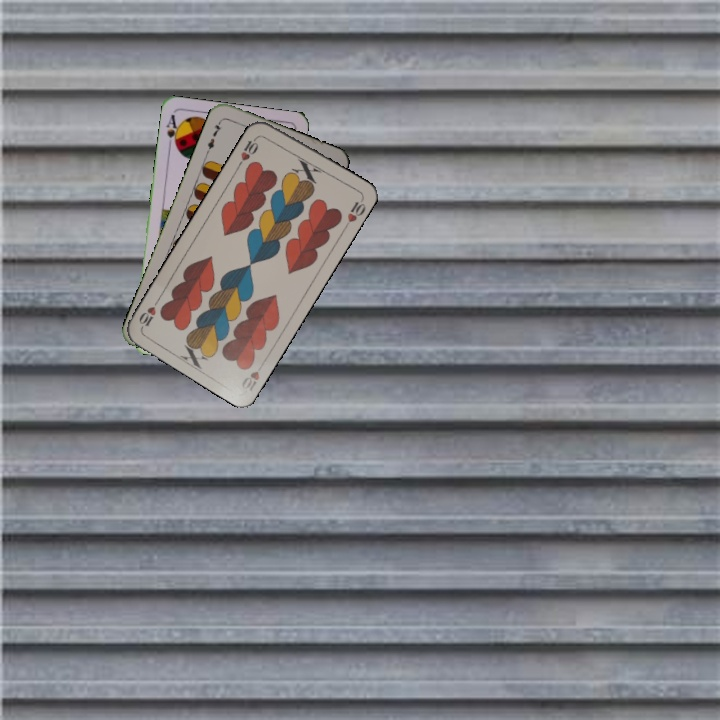E7: (203, 116, 224, 155)
H10: (234, 132, 261, 168), (237, 366, 262, 394)
SA: (162, 110, 182, 152)
